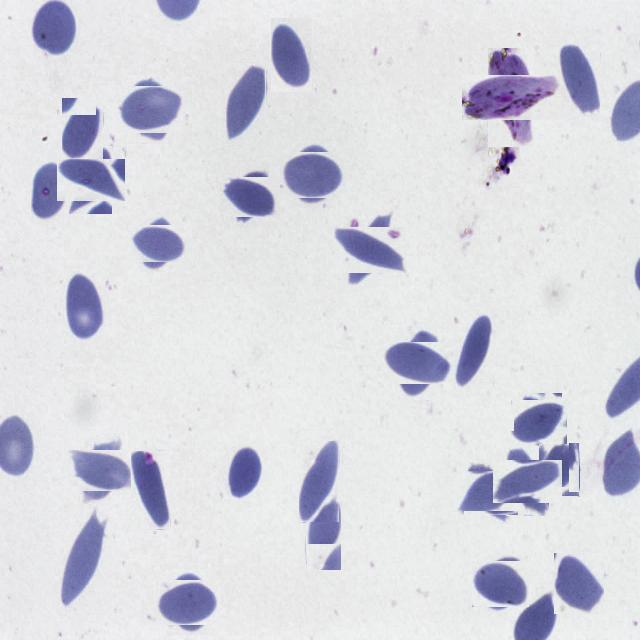red blood cell: (60, 509, 109, 609), (340, 220, 400, 279), (121, 80, 179, 138), (390, 334, 448, 392), (299, 441, 340, 523), (226, 62, 266, 145), (284, 146, 342, 202), (160, 574, 217, 630), (131, 451, 171, 530), (271, 18, 313, 93), (63, 152, 119, 208), (500, 453, 556, 509), (558, 42, 600, 116), (454, 313, 494, 390), (554, 553, 604, 614), (64, 270, 105, 344), (74, 443, 128, 498), (62, 98, 104, 164), (462, 466, 514, 519), (475, 558, 527, 610), (306, 497, 342, 571), (514, 396, 566, 447), (224, 172, 276, 222), (30, 1, 77, 56), (31, 159, 68, 224), (134, 220, 182, 268), (539, 442, 580, 497), (225, 445, 261, 501)
trophozoite: (474, 62, 548, 134)
